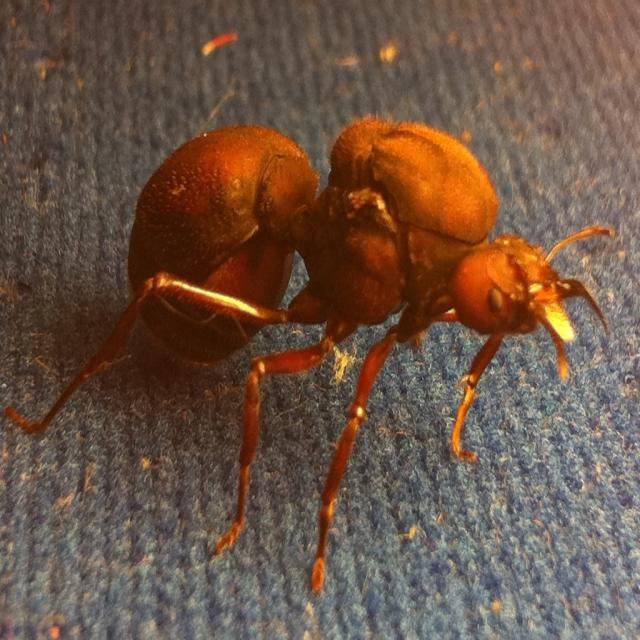Alive-Female-Dealate: (2, 114, 615, 593)
